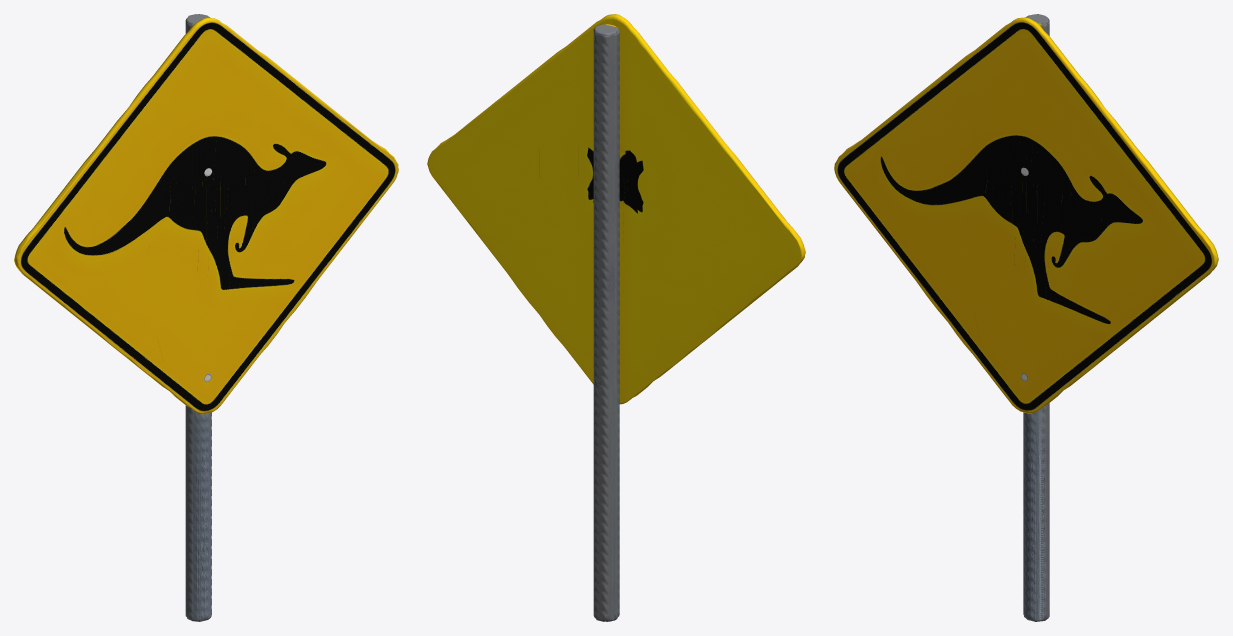
File: Crossing_Sign.glb
3 views of the same model, side by side, from view 1: azimuth 30°, elevation 25°; view 2: azimuth 150°, elevation 25°; view 3: azimuth 330°, elevation 25° (orthographic).
Size of the model in its own units: 1.26 by 1.91 by 0.0978.
1 material, 1 textured.
